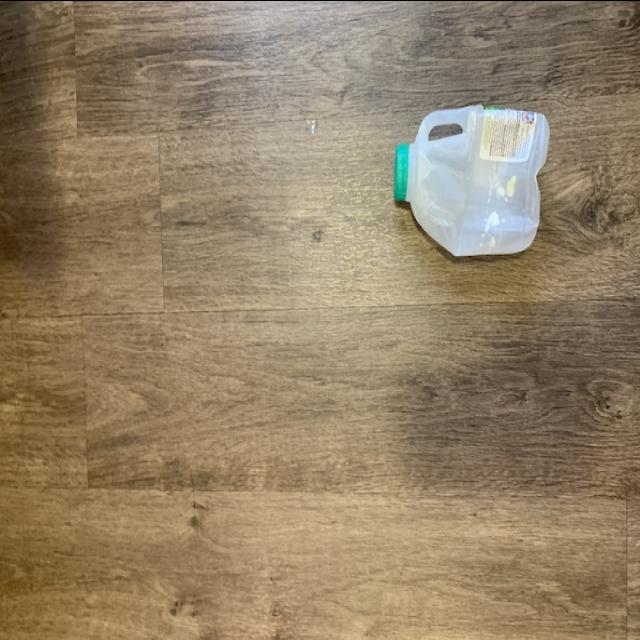HDPEM: (392, 99, 554, 264)
